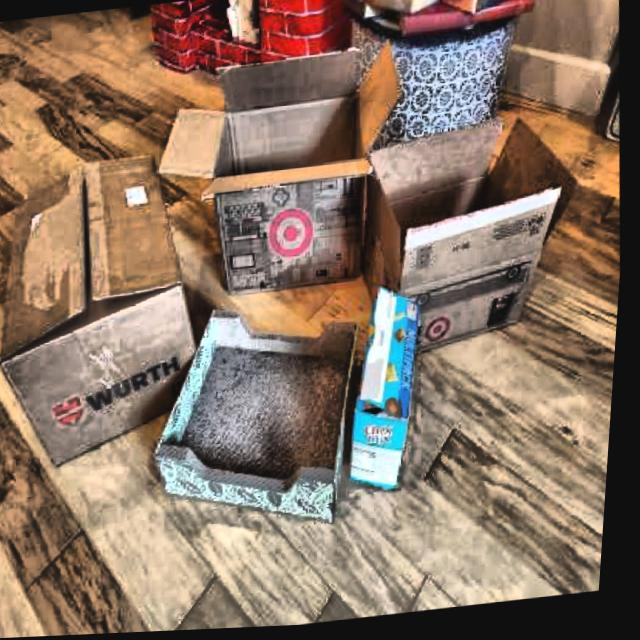Cardbox: (342, 62, 588, 370), (0, 129, 215, 477), (158, 40, 395, 302)
